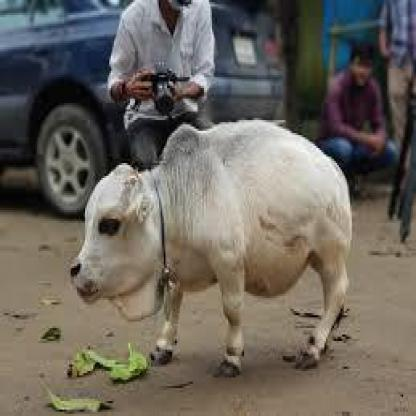cow: (70, 118, 352, 379)
